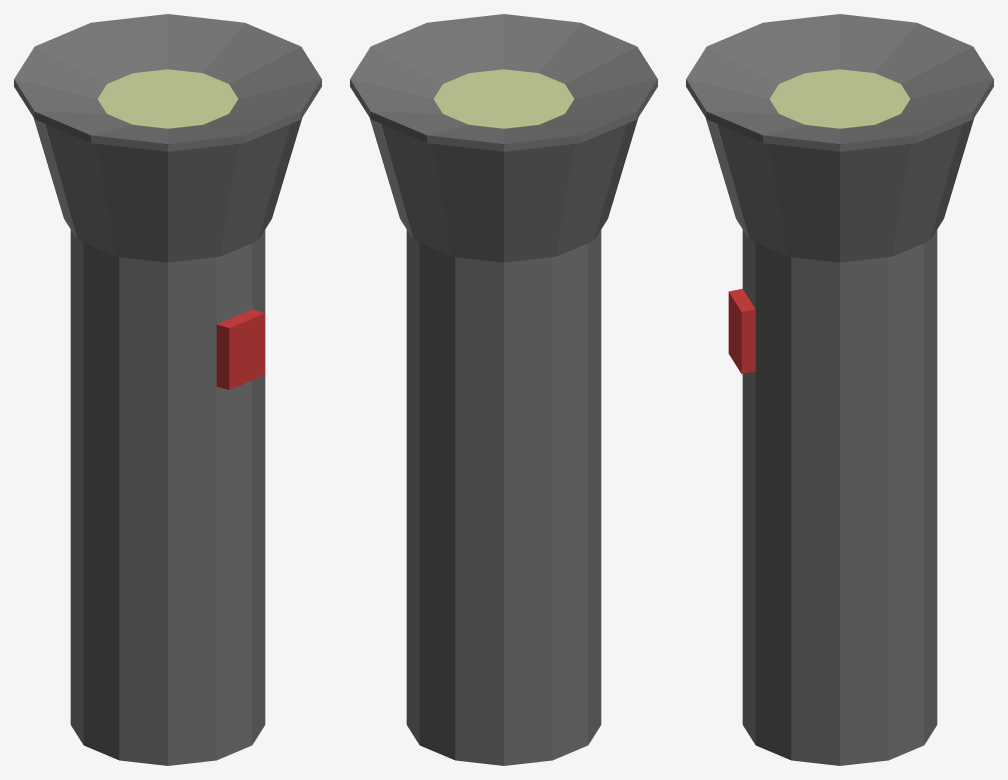
The model's file is lanterna.fbx.
3 renders of one model, left to right at view 1: azimuth 30°, elevation 25°; view 2: azimuth 150°, elevation 25°; view 3: azimuth 270°, elevation 25°, orthographic.
Parts seen in each view (by area): view 1: Circle.001; view 2: Circle.001; view 3: Circle.001.
Boxes of the visible parts, x1=… form: Circle.001: x1=14, y1=14, x2=321, y2=765; Circle.001: x1=350, y1=14, x2=657, y2=765; Circle.001: x1=686, y1=14, x2=993, y2=765.
Bounding box in the file's own units: 1.9 × 4.39 × 1.9.
